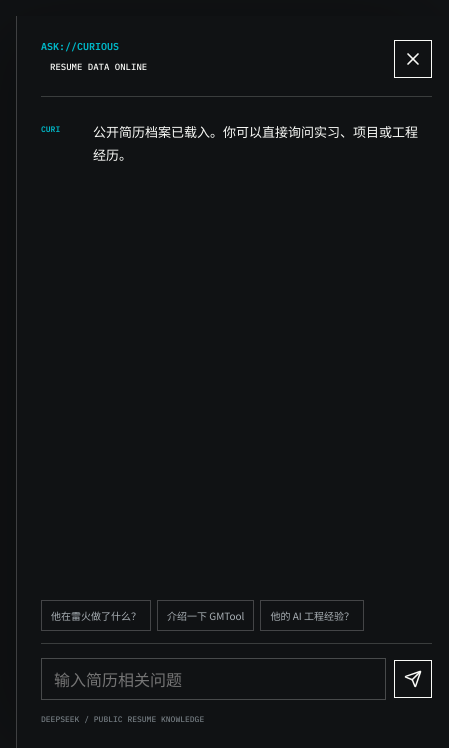
Test: ChatTerminal › renders a public transport error as assistant text
Click the button "他在雷火做了什么？" at (96, 616), box [41, 600, 151, 631]
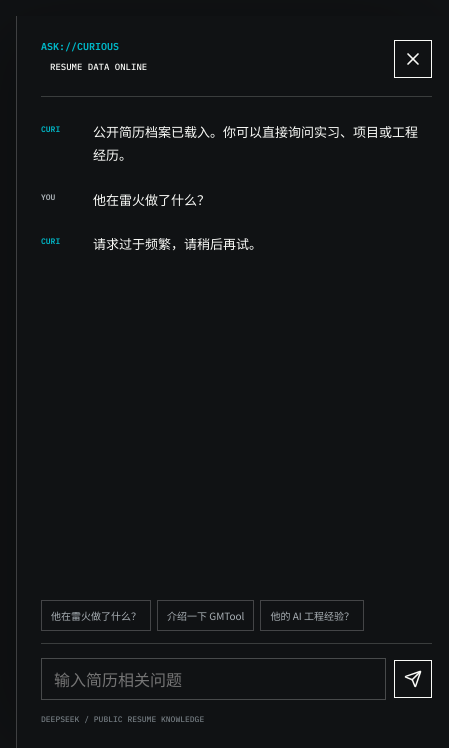
Expected: the text "请求过于频繁，请稍后再试。" is shown, [93, 234, 262, 253]
